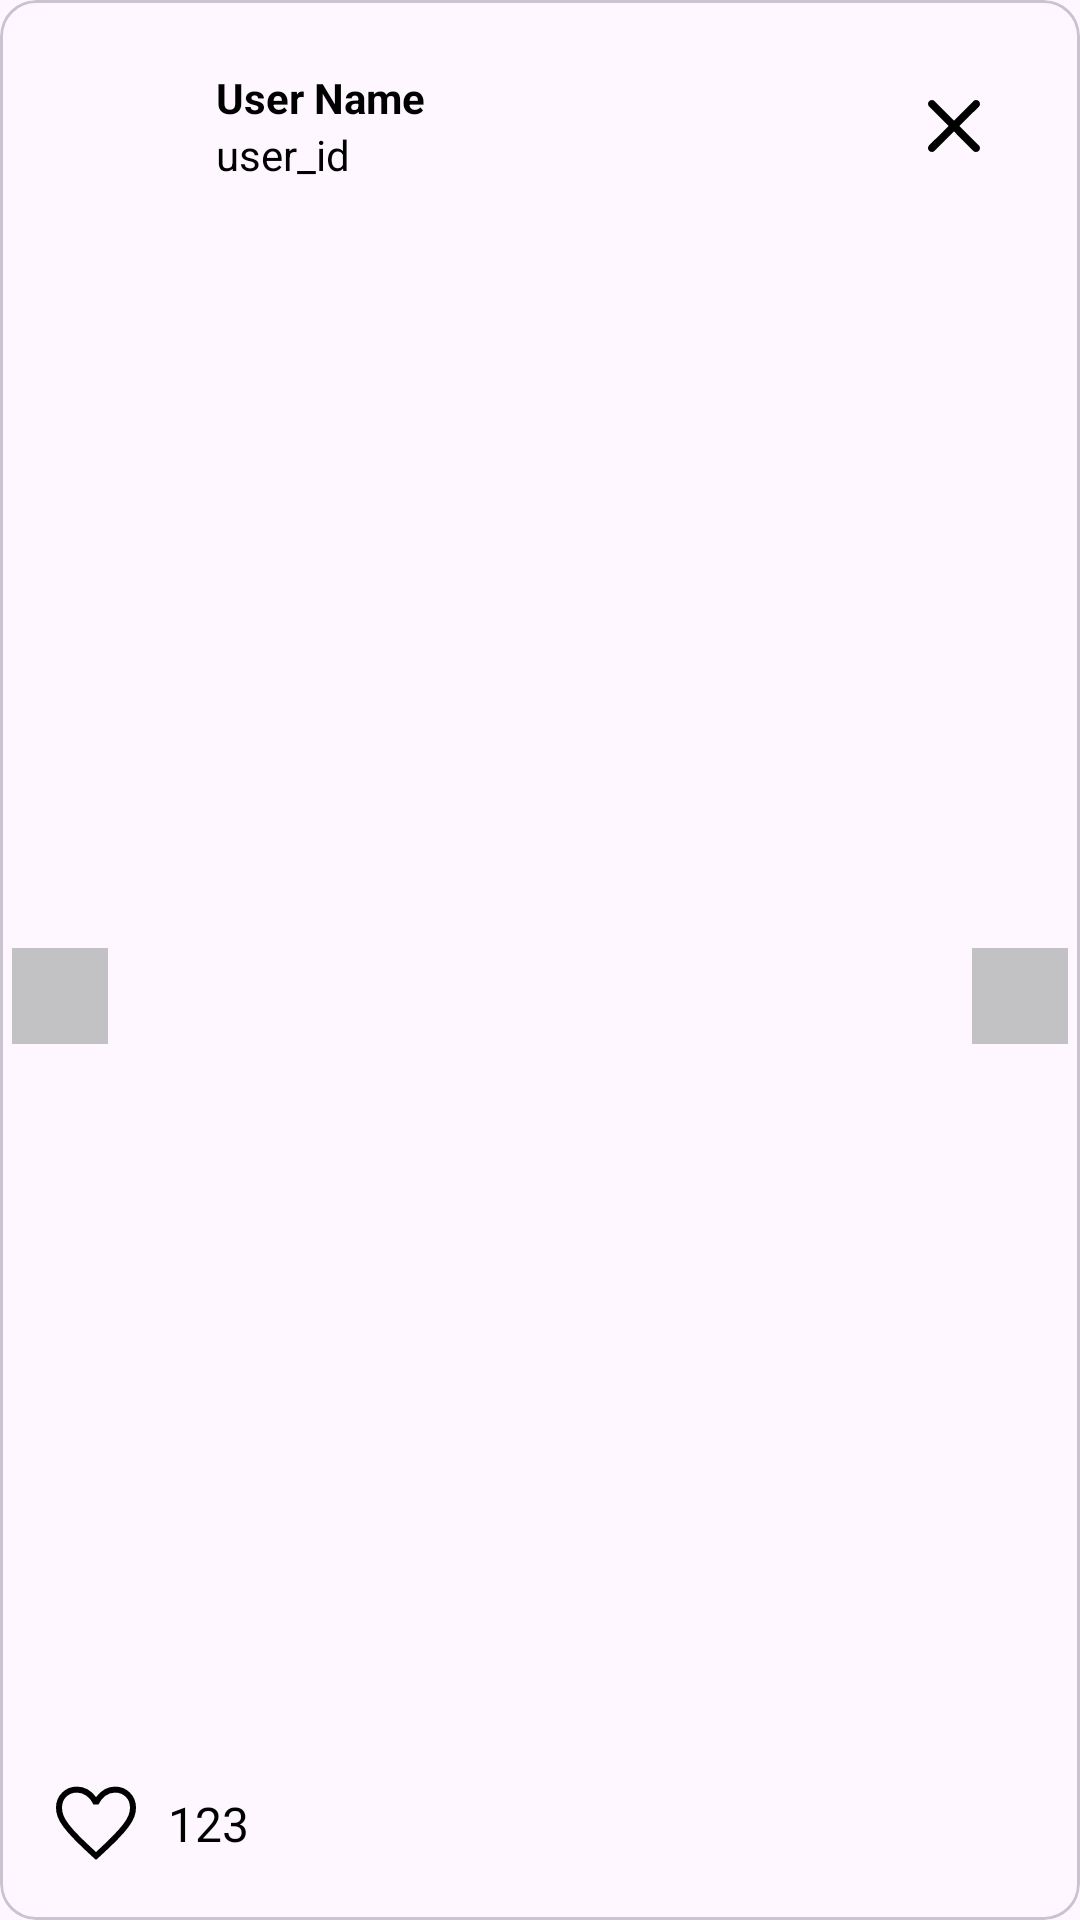

Locate icon controls on the screen. Image size 1080px x 1920px, boxes as rect(x1, y1, x2, y2).
closebtn: rect(928, 100, 980, 152)
favorite: rect(56, 1786, 136, 1860)
